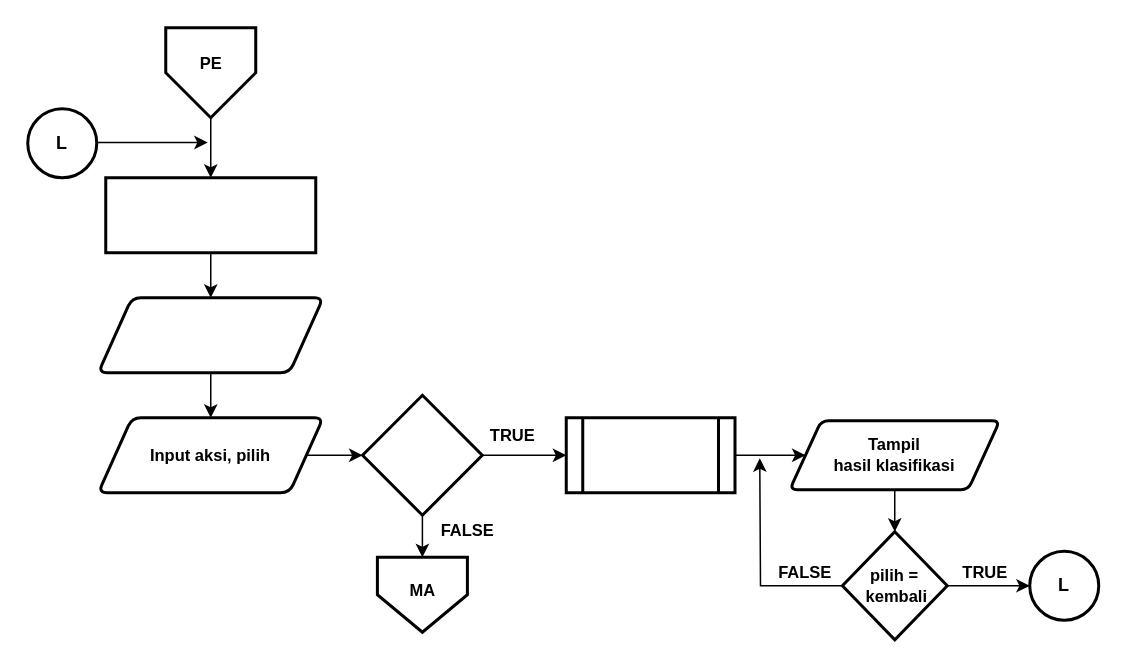
Image size: 1125x666. Some labels were removed from this diagram. The shapes that lost their labels are listed below. From the top down, each one's box as (x1, y1, x2, y2) in pixels, then its label:
(104, 176, 316, 254): Select data model dari database
(96, 296, 324, 374): Tampilkan halaman pengujian
(360, 393, 483, 516): aksi = uji data
(564, 416, 736, 494): Klasifikasi
